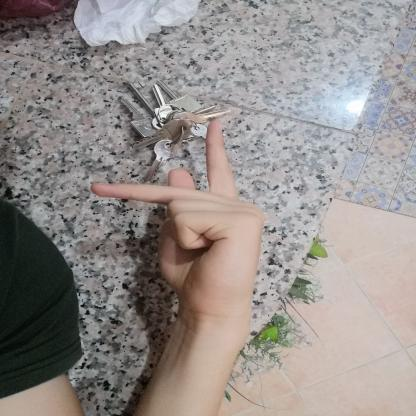DHAA: (80, 109, 278, 327)
